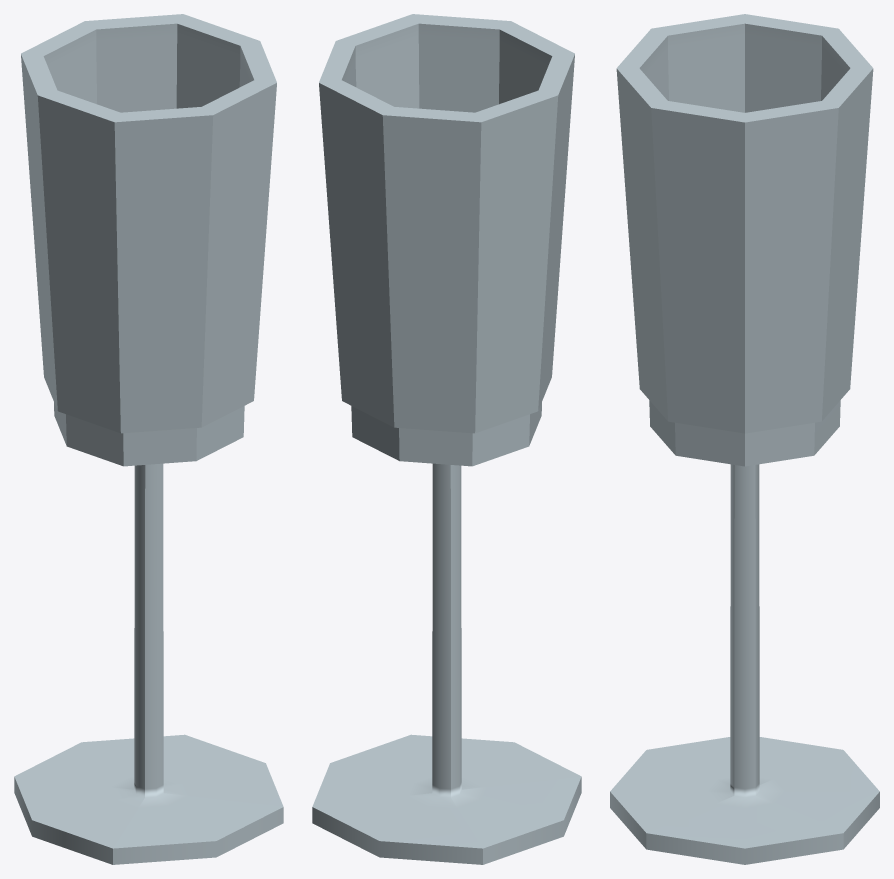
The model's file is copita.fbx.
The picture shows the model from 3 angles, left to right: view 1: azimuth 30°, elevation 25°; view 2: azimuth 150°, elevation 25°; view 3: azimuth 270°, elevation 25°; orthographic projection.
Visible parts, largest first — view 1: copita; view 2: copita; view 3: copita.
Boxes of the visible parts, <box> form: copita: <box>14,14,283,864</box>; copita: <box>312,14,581,864</box>; copita: <box>610,14,879,864</box>.
Size of the model in its own units: 4.96 by 15.01 by 4.96.
